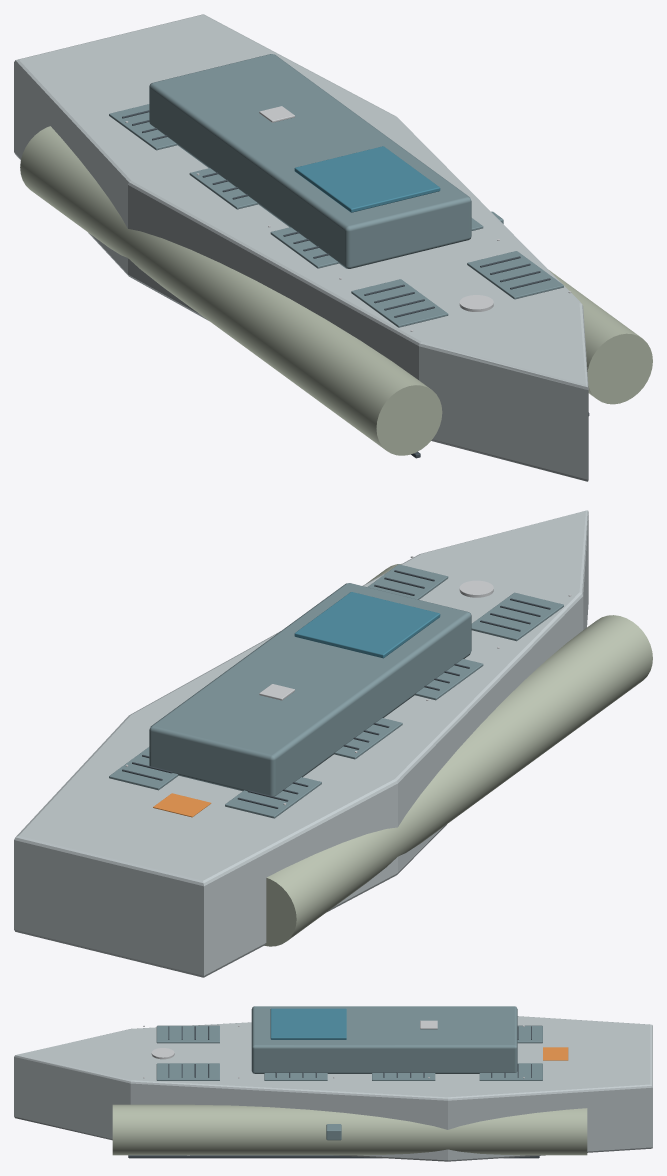
3 views of the same model, one above another, from view 1: azimuth 30°, elevation 25°; view 2: azimuth 150°, elevation 25°; view 3: azimuth 270°, elevation 25° (orthographic). The views are drawn at different scales.
Visible parts, largest first — view 1: colony-ship-core; view 2: colony-ship-core; view 3: colony-ship-core.
Boxes of the visible parts, left/top/right/bottom form: colony-ship-core: left=14, top=14, right=652, bottom=481; colony-ship-core: left=14, top=510, right=652, bottom=977; colony-ship-core: left=14, top=1006, right=652, bottom=1161.
Size of the model in its own units: 8.76 by 4.68 by 25.24.
